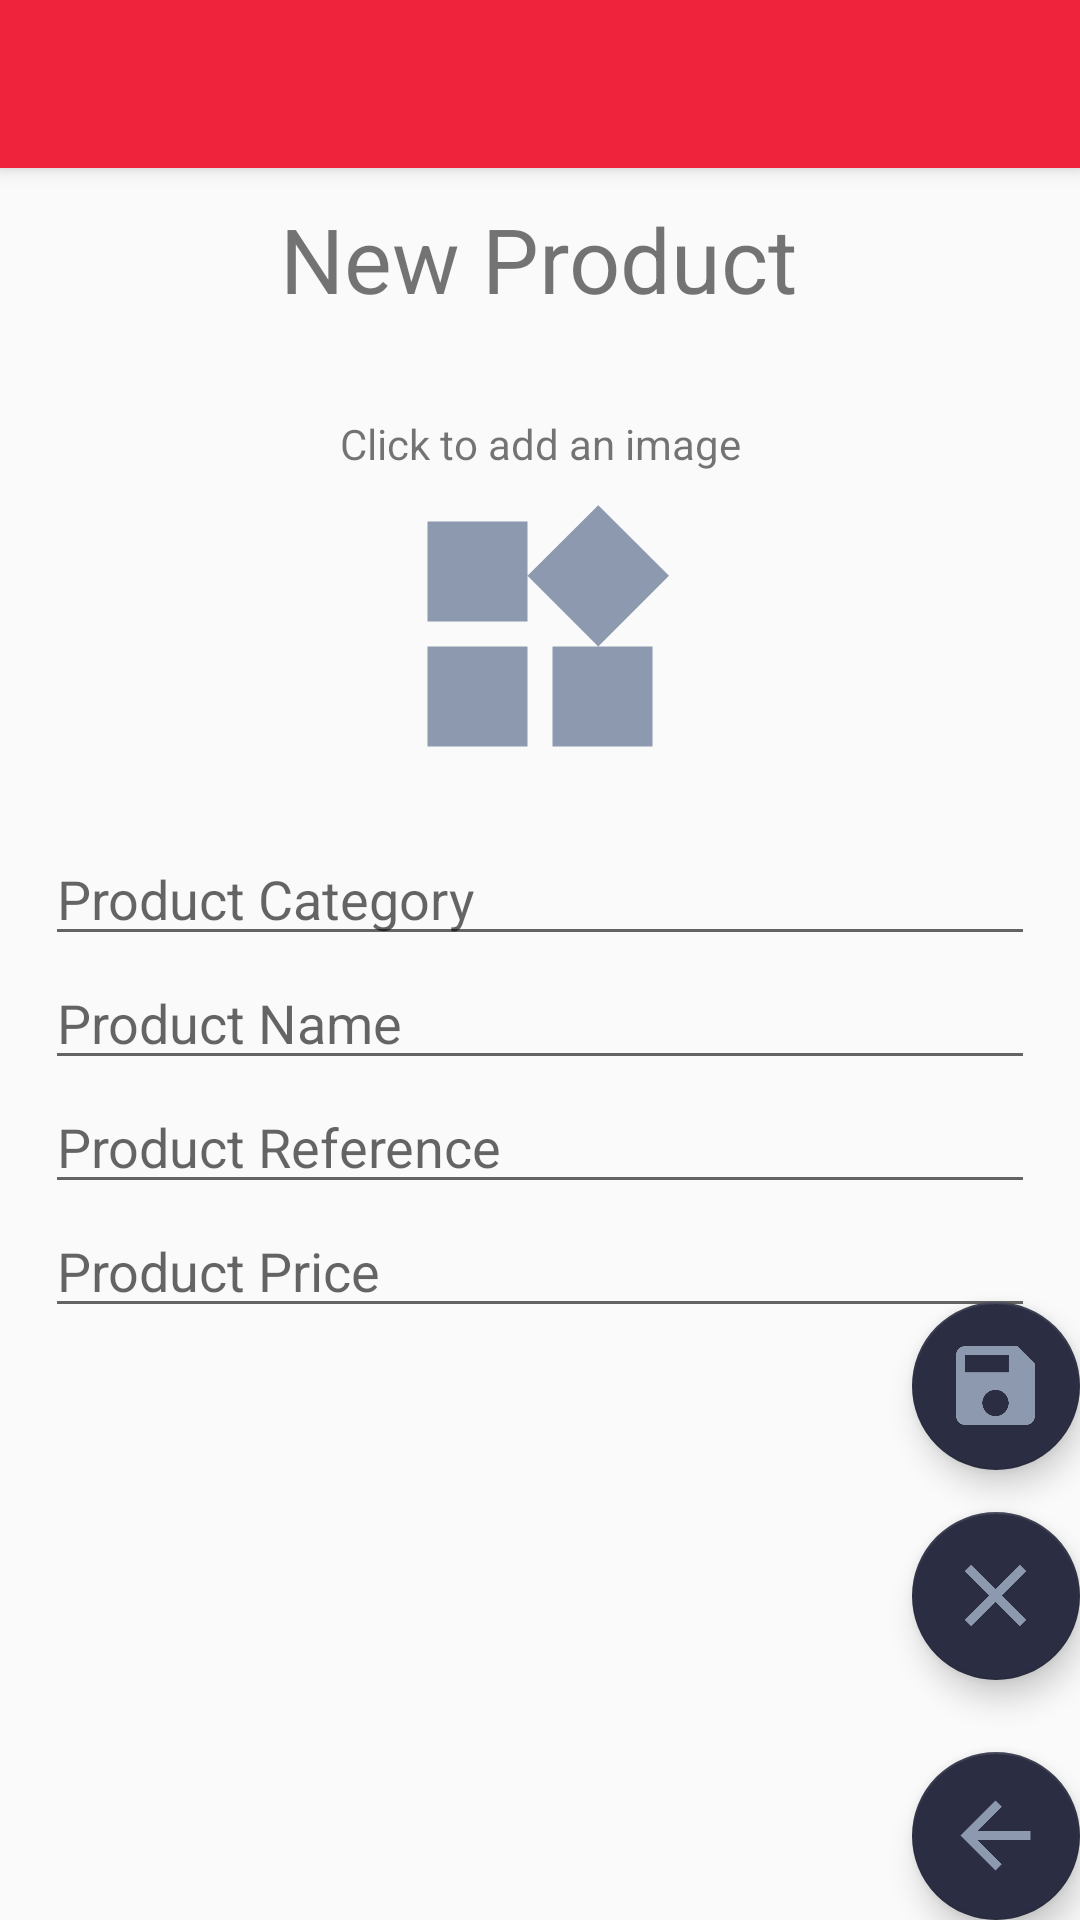

Locate icon controls on the screen. Image size 1080px×1920px, boxes as (x1, y1, x2, y2).
arrow back: (912, 1752, 1080, 1920)
clear: (912, 1512, 1080, 1680)
save: (912, 1302, 1080, 1470)
